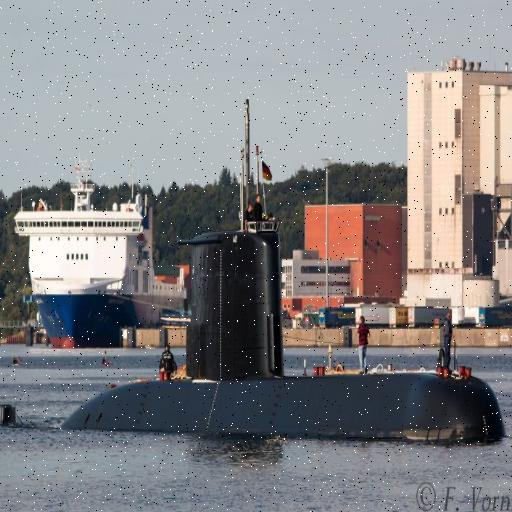submarine: (7, 106, 512, 436)
